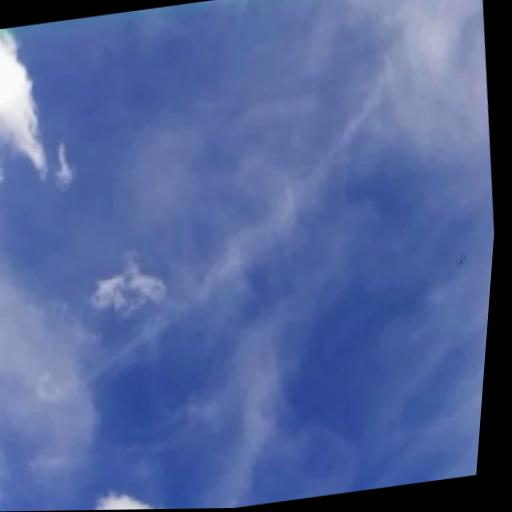drones: (452, 253, 470, 273)
